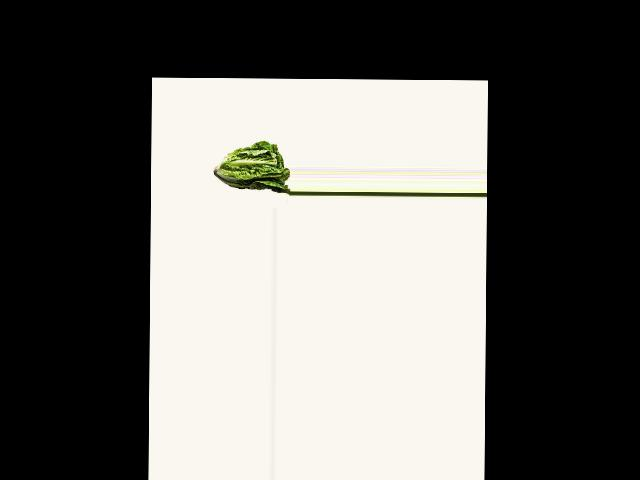lettuce: (215, 137, 290, 193)
